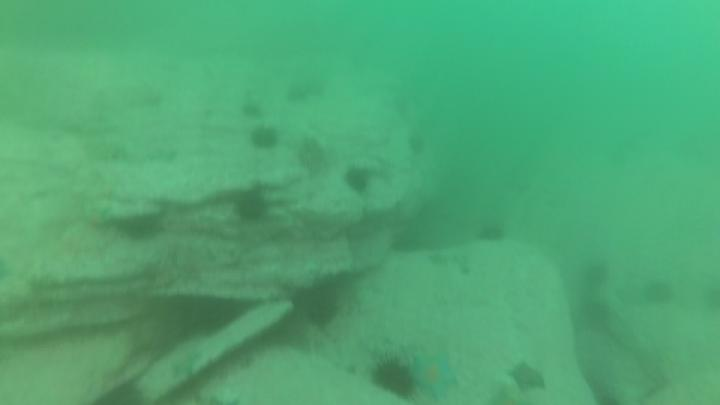echinus: (368, 354, 417, 399), (296, 284, 343, 329), (117, 213, 168, 245), (233, 188, 271, 223), (582, 298, 615, 334), (97, 383, 148, 405), (579, 262, 611, 293), (343, 167, 375, 195), (644, 280, 675, 307), (249, 123, 279, 150), (478, 220, 509, 245), (241, 99, 264, 123), (407, 130, 426, 153)
starfish: (408, 354, 463, 403), (509, 359, 551, 396)
